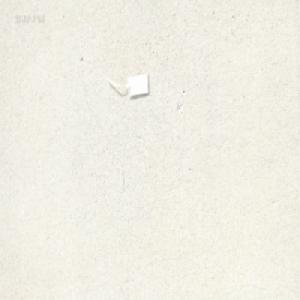LuggageTag: (104, 70, 150, 99)
